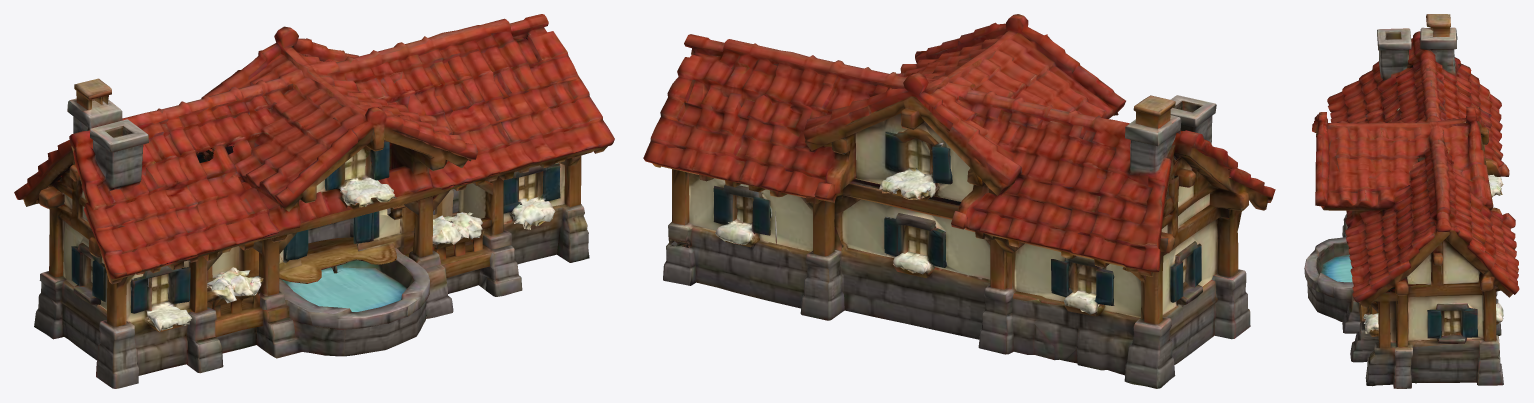
File: candidate.glb
3 renders of one model, left to right at view 1: azimuth 30°, elevation 25°; view 2: azimuth 150°, elevation 25°; view 3: azimuth 270°, elevation 25°, orthographic. The views are drawn at different scales.
Parts seen in each view (by area): view 1: alpine__onsen_1__native_mobile; view 2: alpine__onsen_1__native_mobile; view 3: alpine__onsen_1__native_mobile.
Boxes of the visible parts, bbox=[...] form: alpine__onsen_1__native_mobile: bbox=[14, 14, 614, 388]; alpine__onsen_1__native_mobile: bbox=[643, 14, 1275, 388]; alpine__onsen_1__native_mobile: bbox=[1304, 14, 1519, 388].
Bounding box in the file's own units: 1 × 0.4729 × 0.4582.
1 material, 1 textured.
